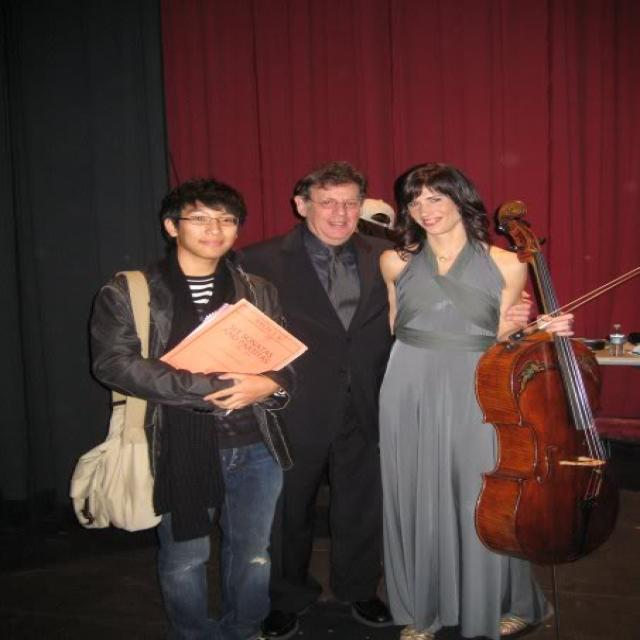cello: (476, 202, 620, 572)
